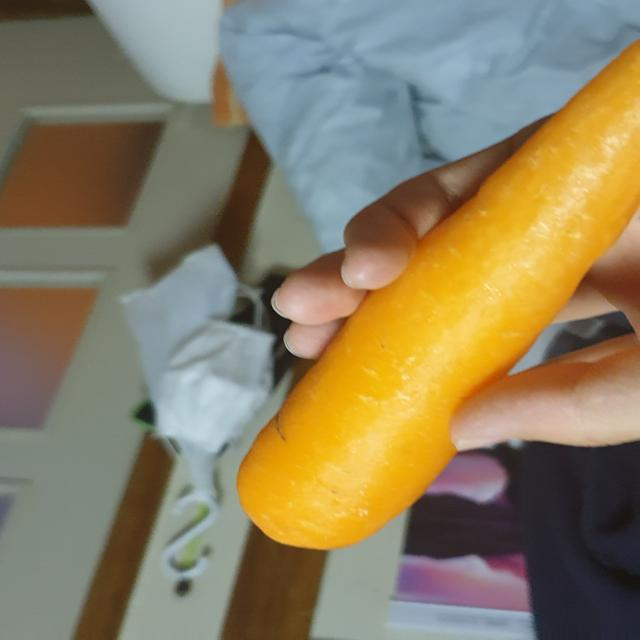carrot: (231, 36, 640, 558)
